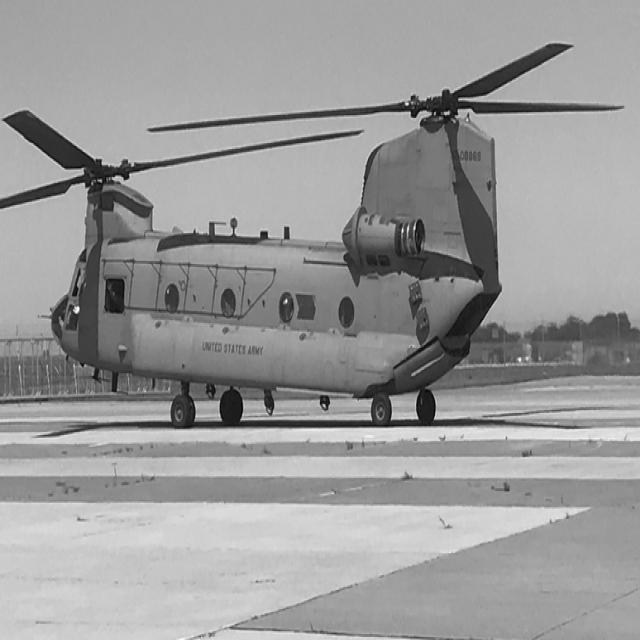helicopter: (1, 44, 629, 426)
